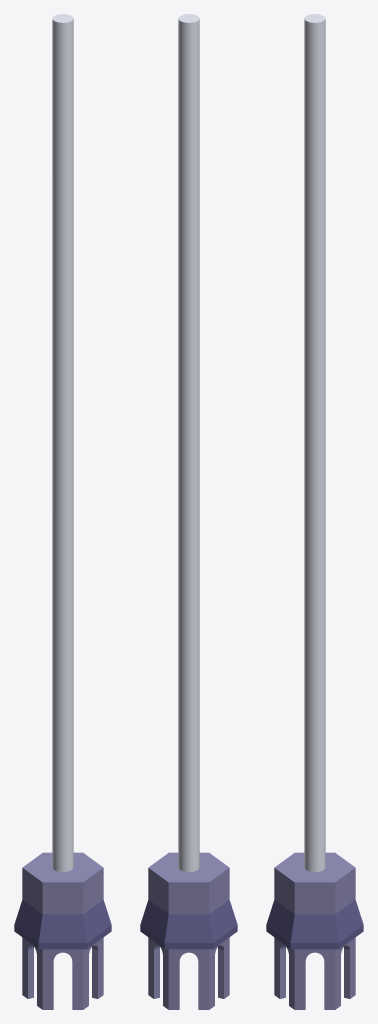
The model's file is Claw.fbx.
3 renders of one model, left to right at view 1: azimuth 30°, elevation 25°; view 2: azimuth 150°, elevation 25°; view 3: azimuth 330°, elevation 25°, orthographic.
Visible parts, largest first — view 1: cylinder, hexagon_base, hexagon_arches; view 2: cylinder, hexagon_base, hexagon_arches; view 3: cylinder, hexagon_base, hexagon_arches.
Boxes of the visible parts, x1,y1,x2,y2 form: cylinder: (52,14,73,871); hexagon_base: (14,852,111,949); hexagon_arches: (22,937,103,1009); cylinder: (178,14,199,871); hexagon_base: (140,852,237,949); hexagon_arches: (148,937,229,1009); cylinder: (304,14,325,871); hexagon_base: (266,852,363,949); hexagon_arches: (274,937,355,1009).
Size of the model in its own units: 12 by 153 by 13.86.
